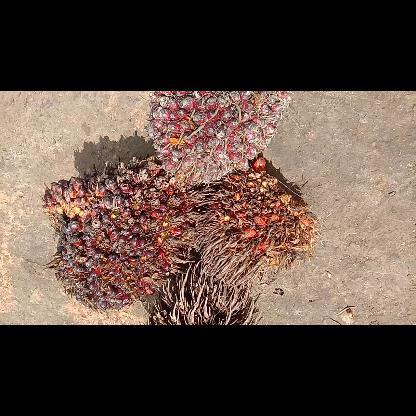Janjang kosong: (148, 258, 264, 324)
Kurang masak: (145, 92, 293, 184)
TBS masak: (43, 157, 202, 313)
Terlalu masak: (198, 157, 318, 287)
